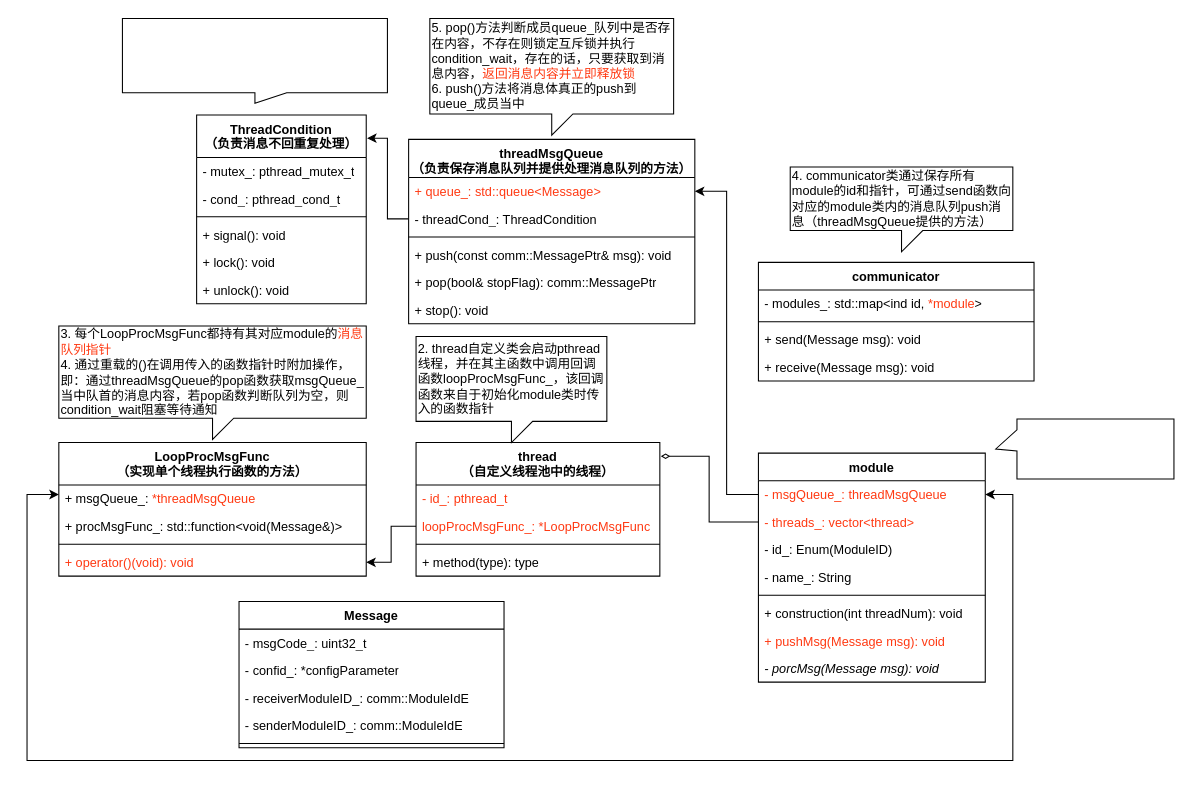
This 1192x789 diagram has some shape labels left out. The shapes that lost their labels are listed below. From the top down, each one's centre as x and y in pixels, then its label:
the point at 254,60: 消息队列queue_利用ThreadCondition类提供的互斥锁mutex_和条件变量cond_, 为线程池提供线程同步机制
the point at 1084,448: 1. Moduel类初始化线程池中所有自定义thread类，且拥有其需要处理的线程池
